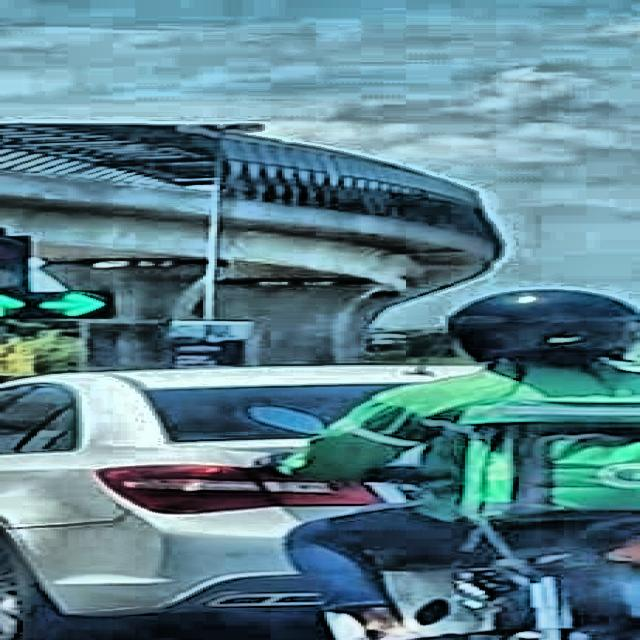green: (25, 234, 110, 319)
